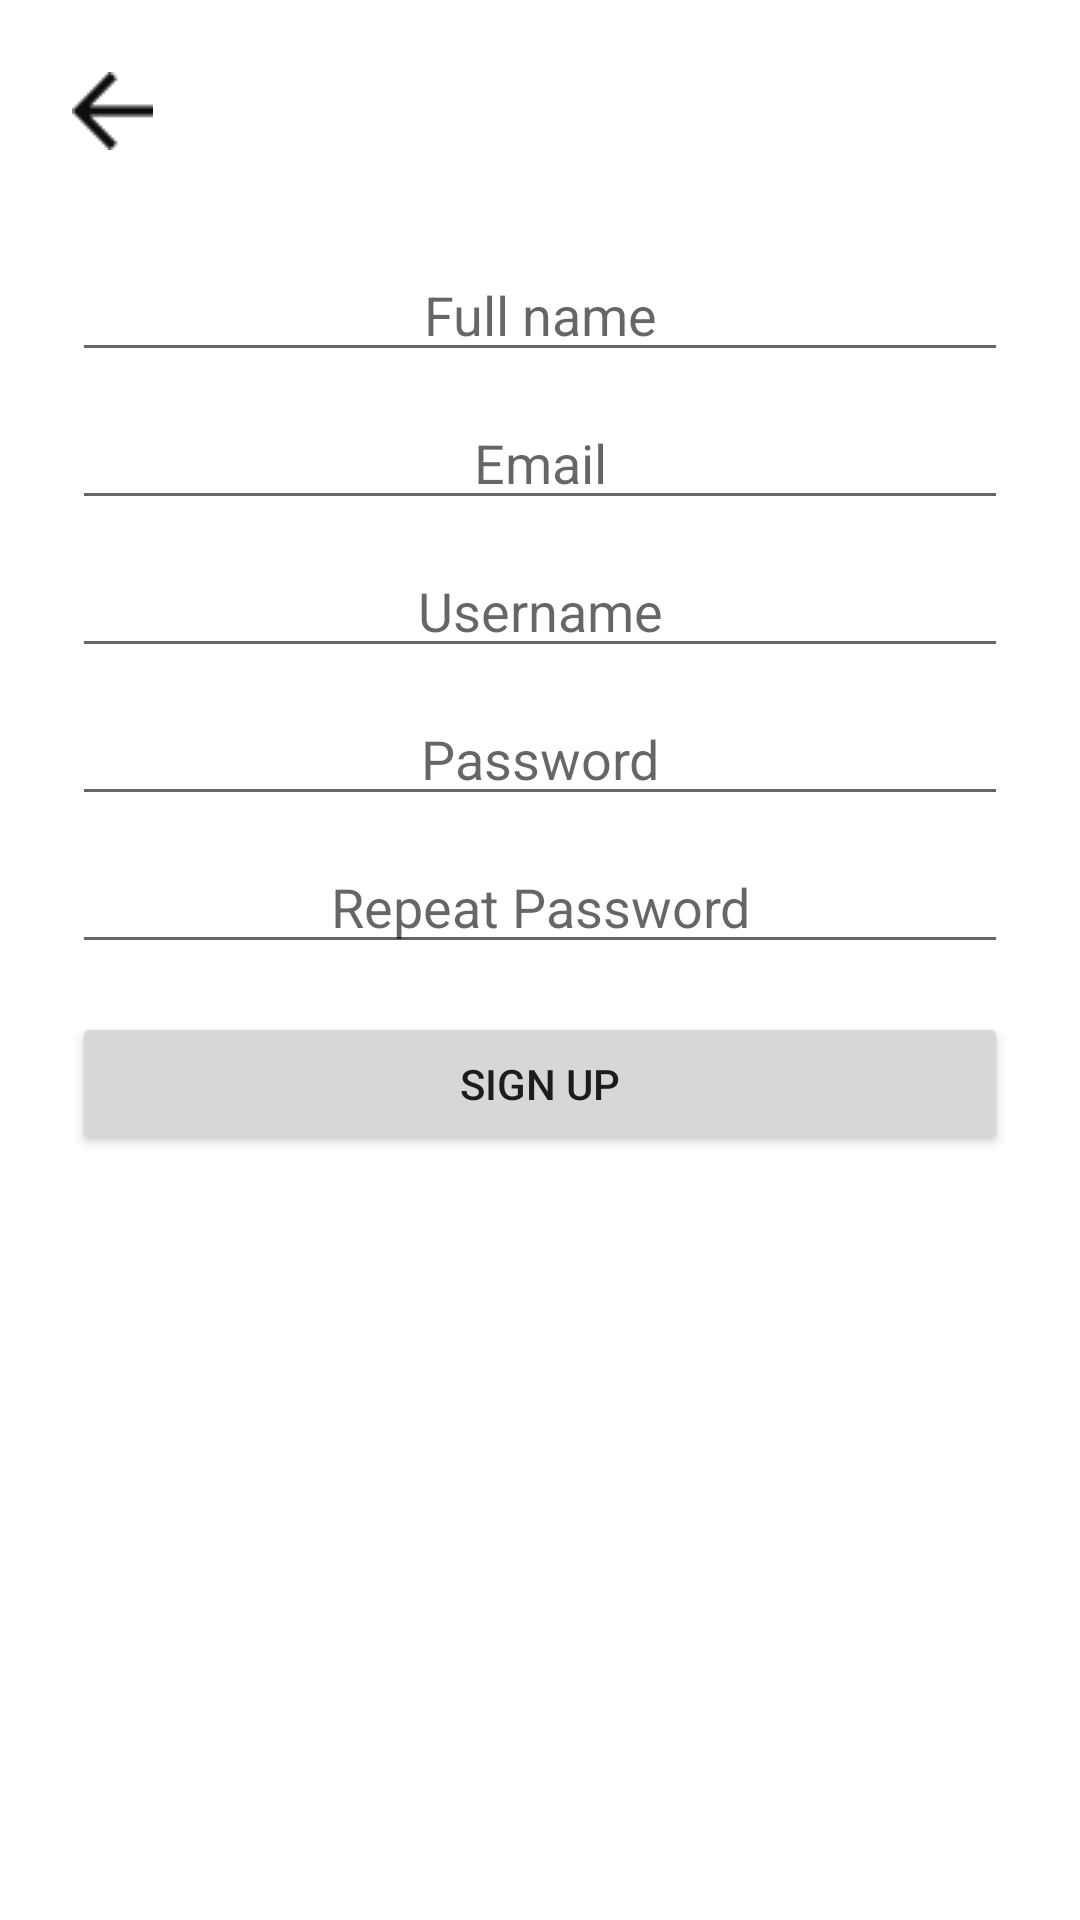

Named icons in this screenshot (1080x1920) and their bounding boxes, (x1, y1, x2, y2):
back: (72, 72, 153, 150)
